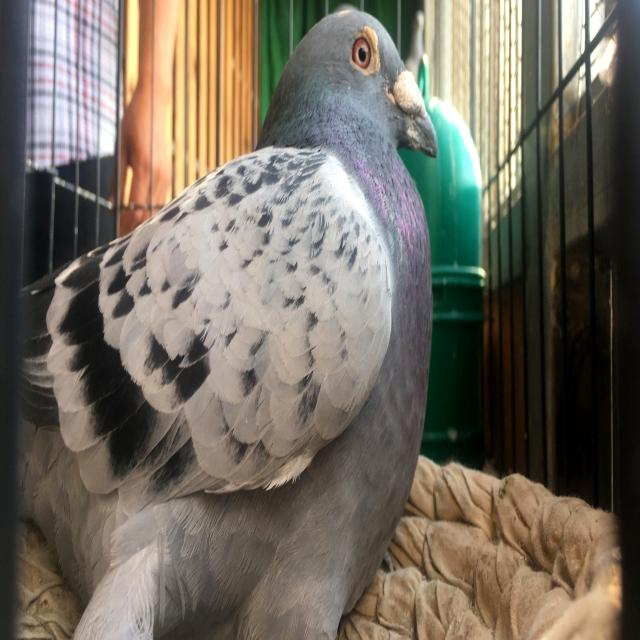pigeon: (31, 10, 437, 640)
